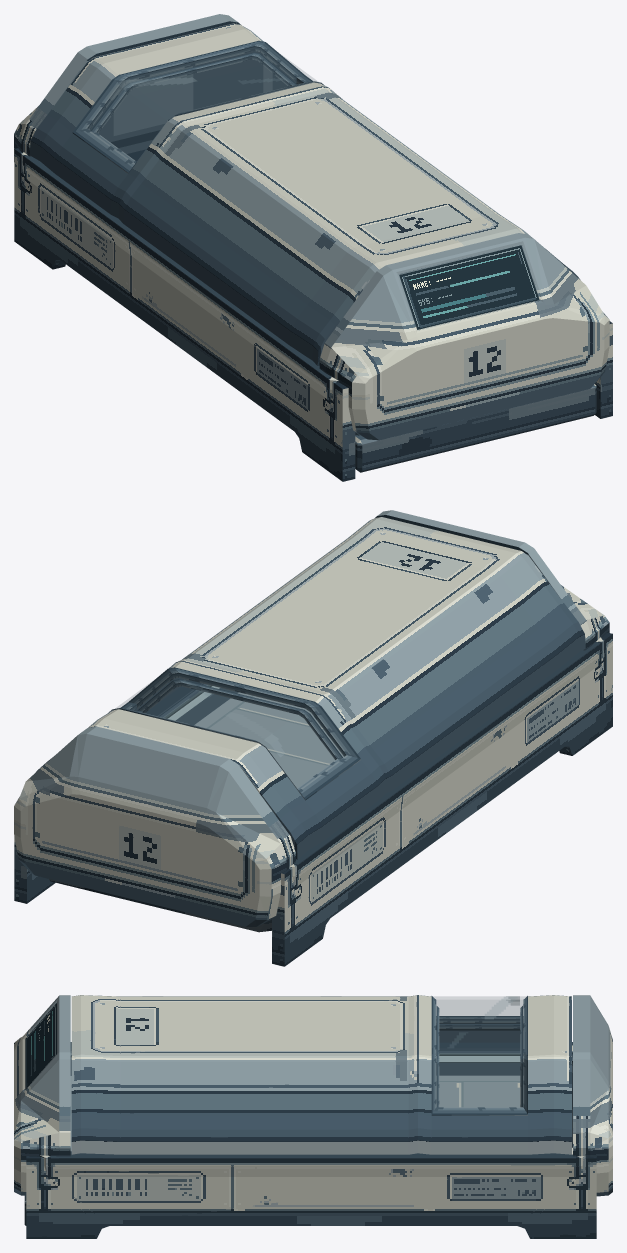
The model's file is cryopod_standard_v8_closed.glb.
3 views of the same model, one above another, from view 1: azimuth 30°, elevation 25°; view 2: azimuth 150°, elevation 25°; view 3: azimuth 270°, elevation 25° (orthographic). The views are drawn at different scales.
Parts seen in each view (by area): view 1: PodLid, PodShellEnd, PodShell, PodDisplay, PodLidInterior, PodWindowFrame, PodWindowSeal, PodShellSection, PodGlass; view 2: PodLid, PodShellEnd, PodShell, PodMattress, PodWindowFrame, PodWindowSeal, PodGlass, PodInterior; view 3: PodLid, PodShell, PodShellEnd, PodMattress, PodWindowFrame, PodGlass, PodDisplay, PodInterior, PodLidInterior, PodWindowSeal, PodTubeDiffuser_L, PodBasinSeal.
Boxes of the visible parts, x1,y1,x2,y2 form: PodLid: [29, 23, 580, 365]; PodShellEnd: [19, 14, 612, 481]; PodShell: [14, 52, 612, 481]; PodDisplay: [399, 245, 539, 329]; PodLidInterior: [89, 51, 298, 138]; PodWindowFrame: [72, 40, 323, 173]; PodWindowSeal: [91, 52, 296, 163]; PodShellSection: [30, 21, 240, 161]; PodGlass: [107, 52, 317, 100]; PodLid: [36, 517, 585, 859]; PodShellEnd: [14, 510, 604, 966]; PodShell: [15, 548, 612, 966]; PodMattress: [194, 692, 343, 787]; PodWindowFrame: [108, 667, 360, 800]; PodWindowSeal: [137, 679, 342, 789]; PodGlass: [117, 677, 285, 757]; PodInterior: [157, 683, 238, 725]; PodLid: [71, 995, 571, 1154]; PodShell: [21, 1042, 608, 1238]; PodShellEnd: [14, 995, 612, 1201]; PodMattress: [70, 1075, 523, 1151]; PodWindowFrame: [431, 996, 527, 1115]; PodGlass: [434, 996, 525, 1048]; PodDisplay: [25, 1003, 56, 1089]; PodInterior: [70, 1048, 572, 1147]; PodLidInterior: [436, 1022, 523, 1042]; PodWindowSeal: [436, 1006, 522, 1107]; PodTubeDiffuser_L: [436, 1056, 523, 1061]; PodBasinSeal: [70, 1049, 572, 1064].
Bounding box in the file's own units: 1.05 × 0.665 × 2.29.
10 materials, 8 textured.
